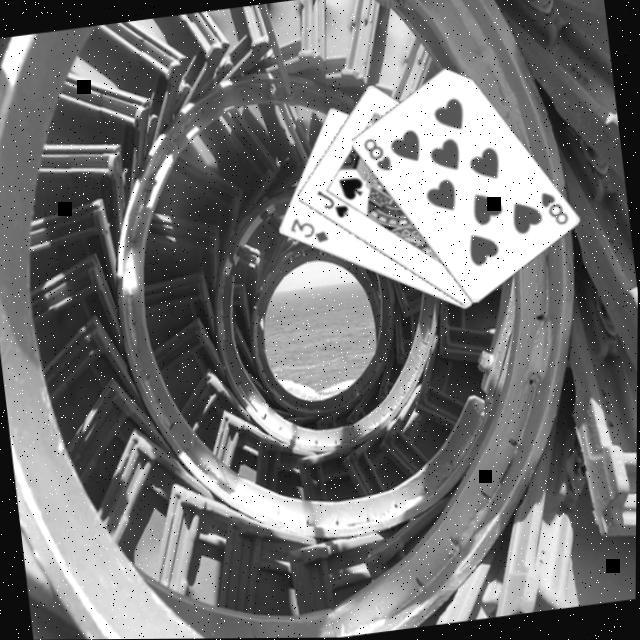3D: (282, 210, 330, 248)
8H: (534, 186, 570, 229), (357, 131, 392, 175)
JS: (310, 182, 350, 222)
